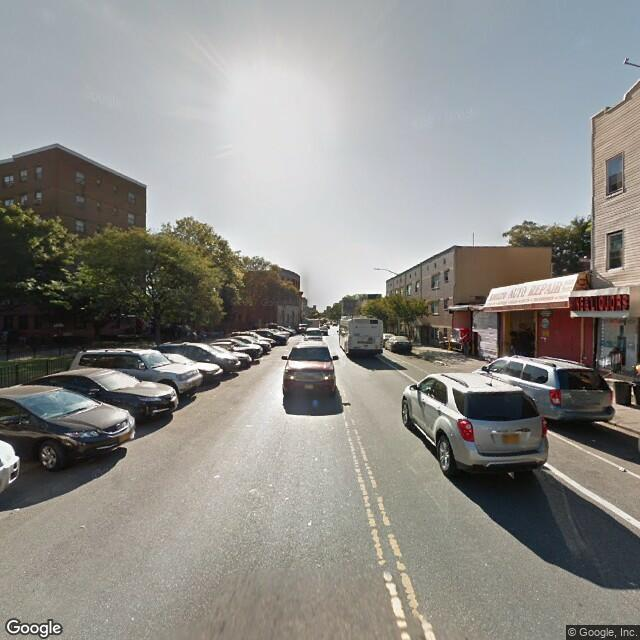litter: (617, 463, 627, 473), (11, 505, 23, 512)
